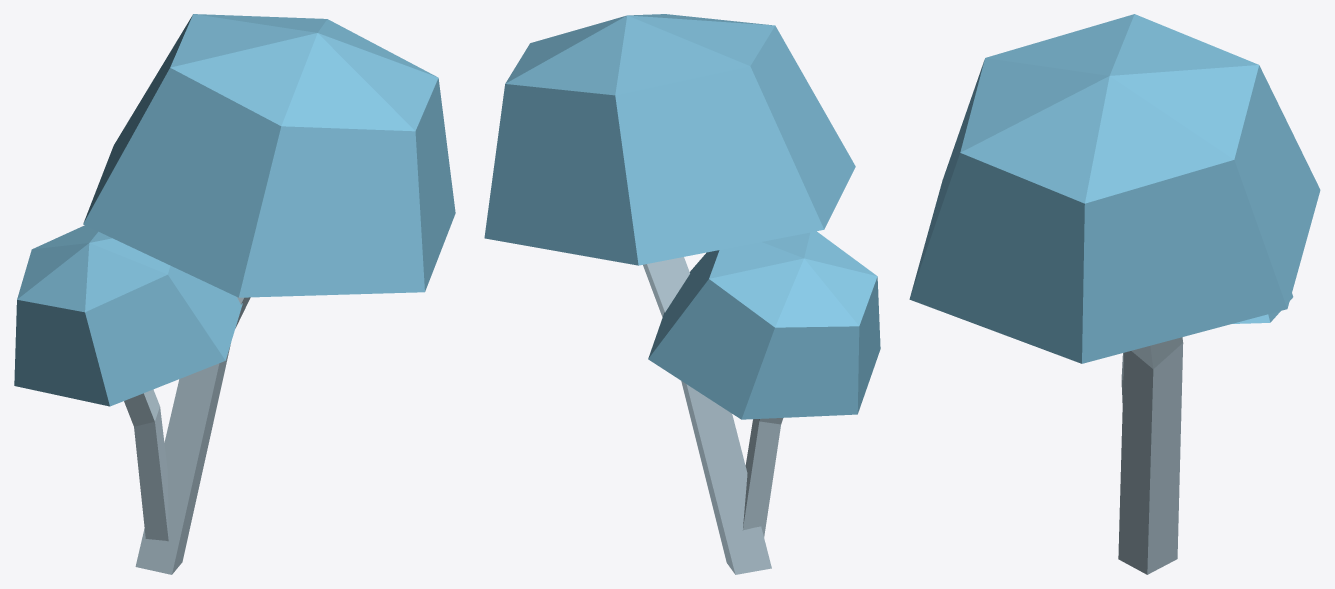
Rendered from Mushroom_a_06.fbx.
3 views of the same model, side by side, from view 1: azimuth 30°, elevation 25°; view 2: azimuth 150°, elevation 25°; view 3: azimuth 270°, elevation 25° (orthographic). The views are drawn at different scales.
Parts seen in each view (by area): view 1: Mushroom_a_06; view 2: Mushroom_a_06; view 3: Mushroom_a_06.
Part boxes in pixels (x1,y1,x2,y2): Mushroom_a_06: (14, 14, 455, 574); Mushroom_a_06: (484, 14, 880, 574); Mushroom_a_06: (909, 14, 1320, 574).
Size of the model in its own units: 23.21 by 28.9 by 19.15.
